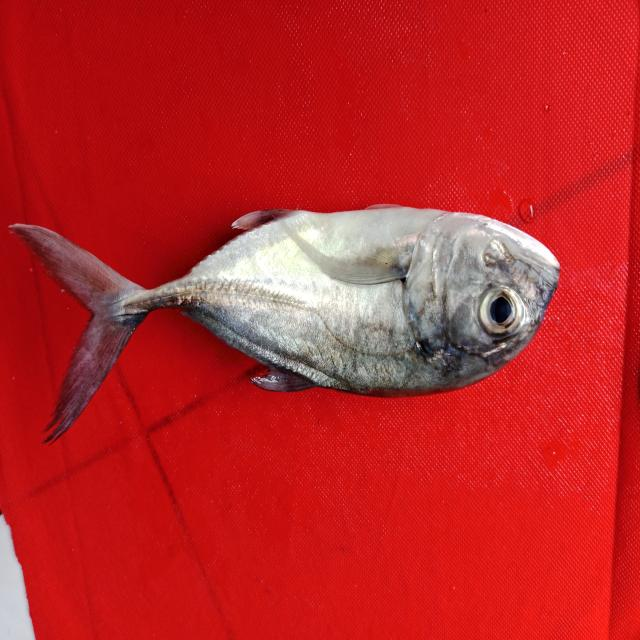ikan: (6, 154, 578, 462)
